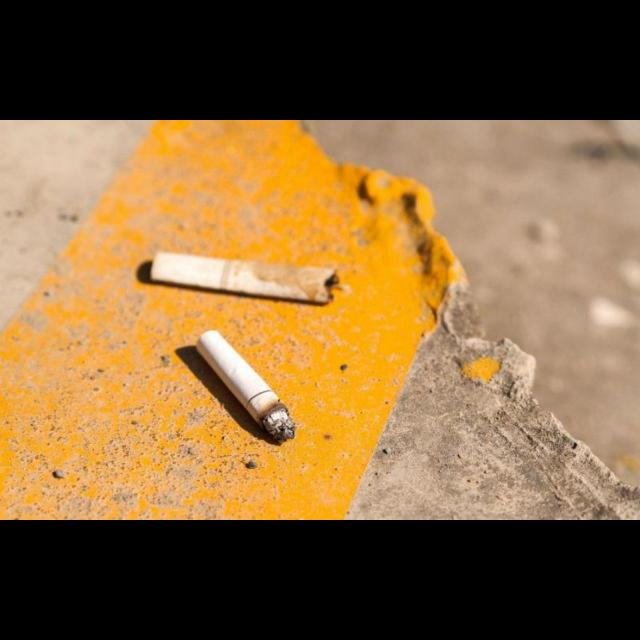cigarette: (197, 330, 295, 443), (151, 253, 337, 303)
